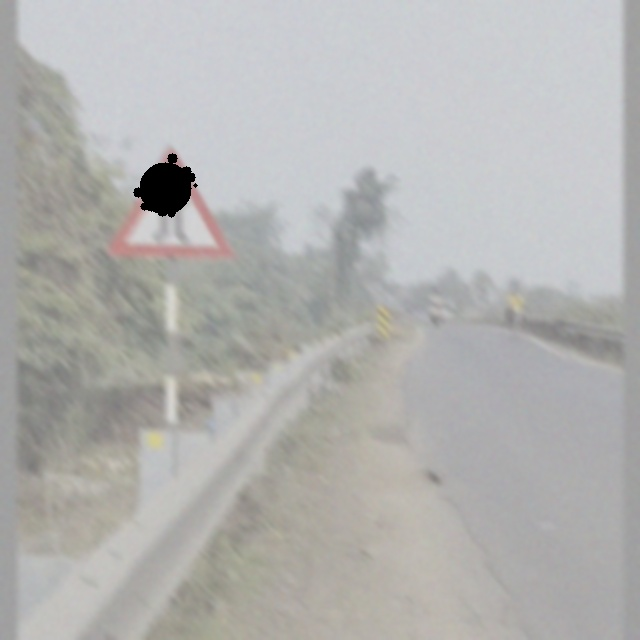Narrow_Bridge: (101, 144, 242, 264)
